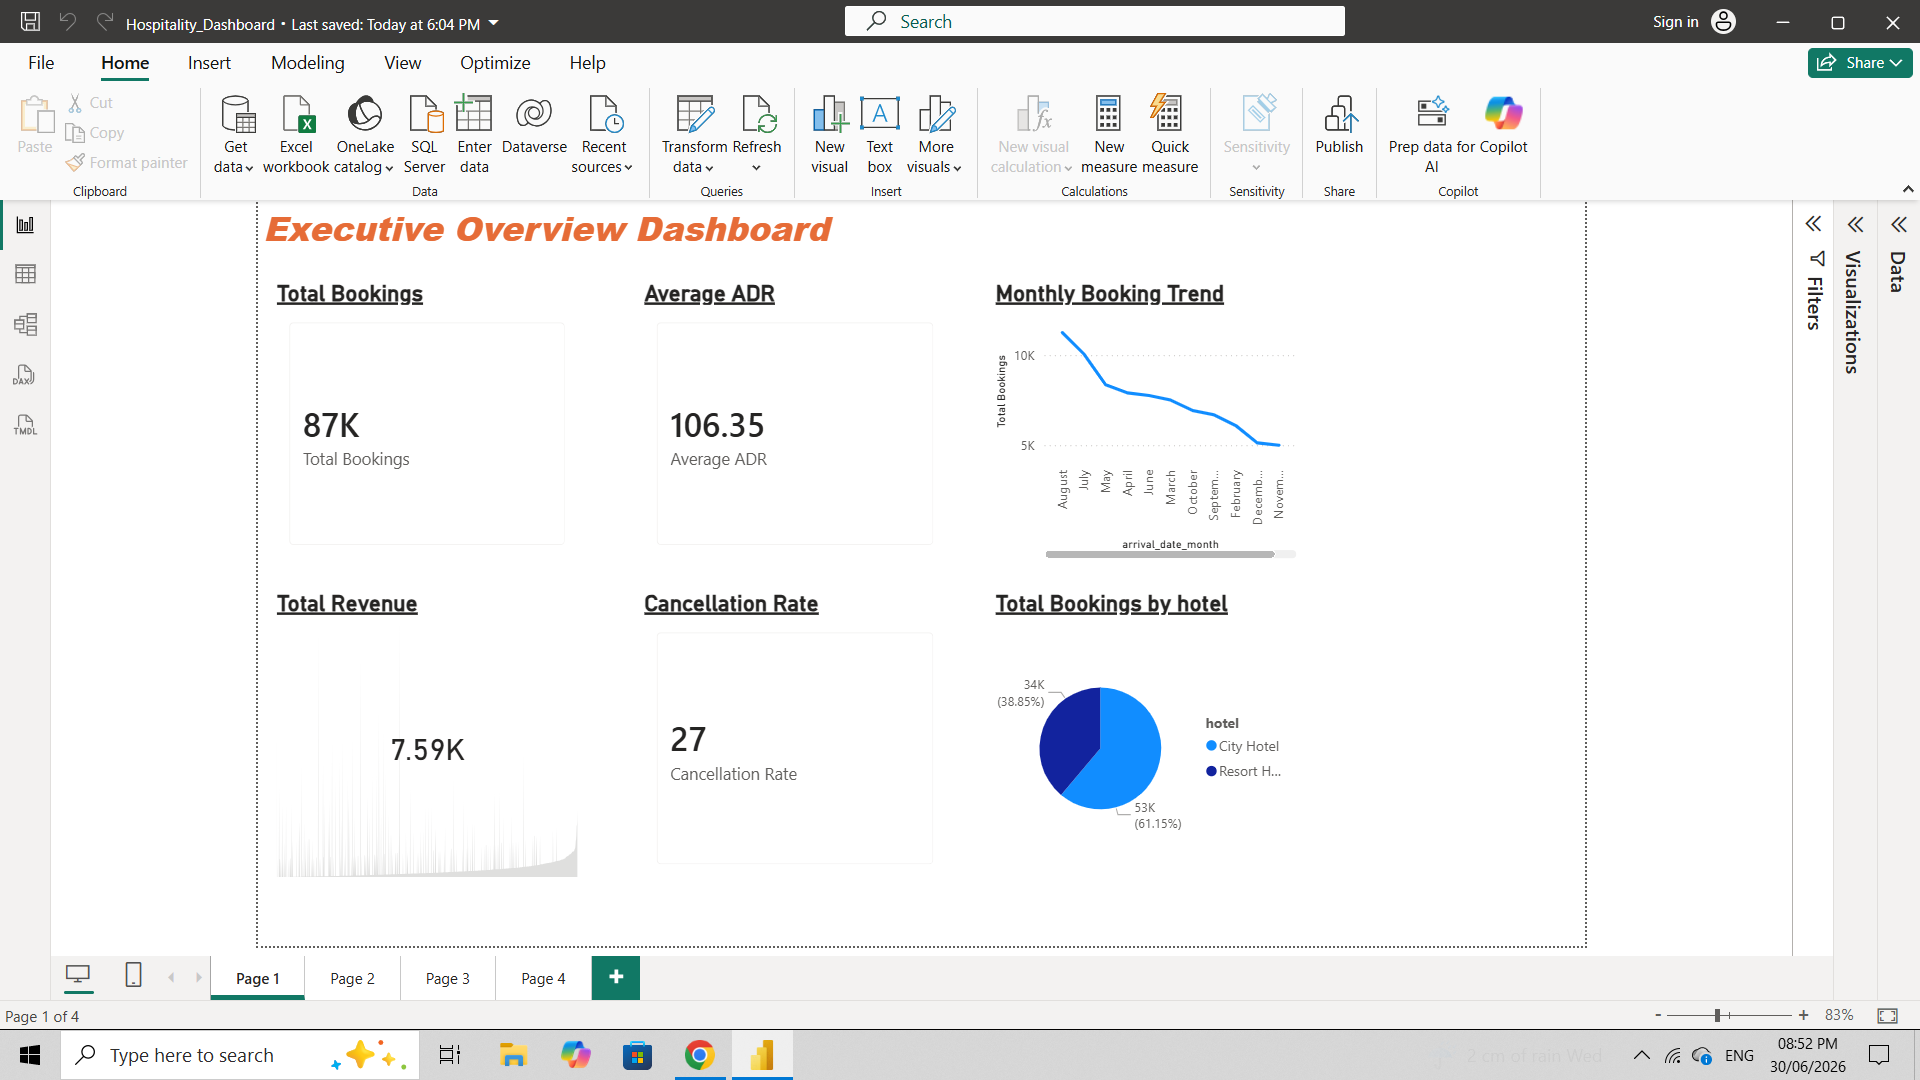

The page's visual inventory and layout, read from the dashboard file:
{"tool":"powerbi","page":{"name":"Page 1","canvas":[1280,720],"ordinal":0},"visuals":[{"type":"cardVisual","title":"Total Bookings","fields":{"Data":["cleaned_hotel_booking_dataset.Total Bookings"]},"box":[70,77.2,300.4,273.9],"z":0},{"type":"kpi","title":"Total Revenue","fields":{"Indicator":["Sum(cleaned_hotel_booking_dataset.total_revenue)"],"TrendLine":["cleaned_hotel_booking_dataset.total_revenue"]},"box":[70,411.4,300.4,282.3],"z":1000},{"type":"cardVisual","title":"Average ADR","fields":{"Data":["cleaned_hotel_booking_dataset.Average ADR"]},"box":[503.1,77.2,301.6,273.9],"z":2000},{"type":"cardVisual","title":"Cancellation Rate","fields":{"Data":["cleaned_hotel_booking_dataset.Cancellation Rate"]},"box":[503.1,411.4,301.6,282.3],"z":3000},{"type":"lineChart","title":"Monthly Booking Trend","fields":{"Category":["cleaned_hotel_booking_dataset.arrival_date_month"],"Y":["cleaned_hotel_booking_dataset.Total Bookings"]},"box":[886.7,77.2,300.4,273.9],"z":4000},{"type":"pieChart","fields":{"Category":["cleaned_hotel_booking_dataset.hotel"],"Y":["cleaned_hotel_booking_dataset.Total Bookings"]},"box":[886.7,411.4,300.4,282.3],"z":5000},{"type":"textbox","box":[0,0,597.2,56.7],"z":5001}]}

Visuals, with their boxes on the page's 1280x720 design canvas (x1, y1, x2, y2). These are canvas units, not pixel positions in the 1920x1080 screenshot, which may show the page scaled, cropped or inside an application window:
"Total Bookings" cardVisual: left=70, top=77, right=370, bottom=351
"Total Revenue" kpi: left=70, top=411, right=370, bottom=694
"Average ADR" cardVisual: left=503, top=77, right=805, bottom=351
"Cancellation Rate" cardVisual: left=503, top=411, right=805, bottom=694
"Monthly Booking Trend" lineChart: left=887, top=77, right=1187, bottom=351
pieChart - cleaned_hotel_booking_dataset.hotel x cleaned_hotel_booking_dataset.Total Bookings: left=887, top=411, right=1187, bottom=694
textbox: left=0, top=0, right=597, bottom=57
